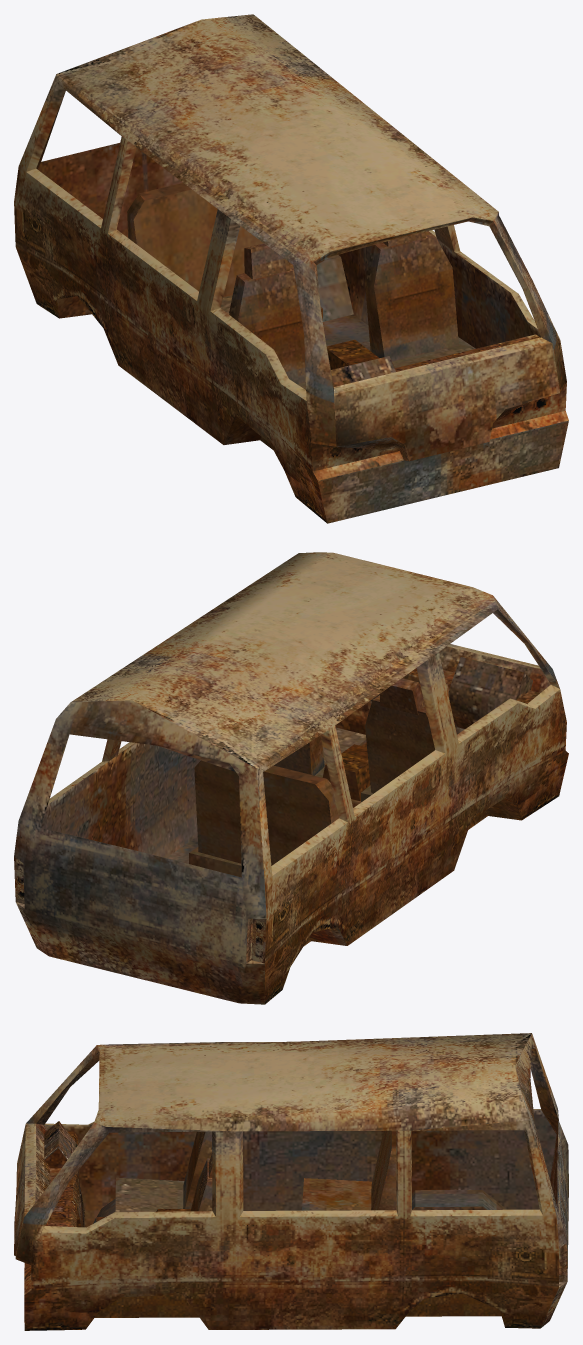
File: Prop_Wj034a.glb
3 renders of one model, top to bottom at view 1: azimuth 30°, elevation 25°; view 2: azimuth 150°, elevation 25°; view 3: azimuth 270°, elevation 25°, orthographic. The views are drawn at different scales.
Visible parts, largest first — view 1: xiutz_wj034a; view 2: xiutz_wj034a; view 3: xiutz_wj034a.
Part boxes in pixels (x1,y1,x2,y2): xiutz_wj034a: (14, 14, 568, 523); xiutz_wj034a: (14, 552, 568, 1004); xiutz_wj034a: (14, 1033, 568, 1330).
Bounding box in the file's own units: 2.24 × 2.21 × 4.76.
1 material, 1 textured.
